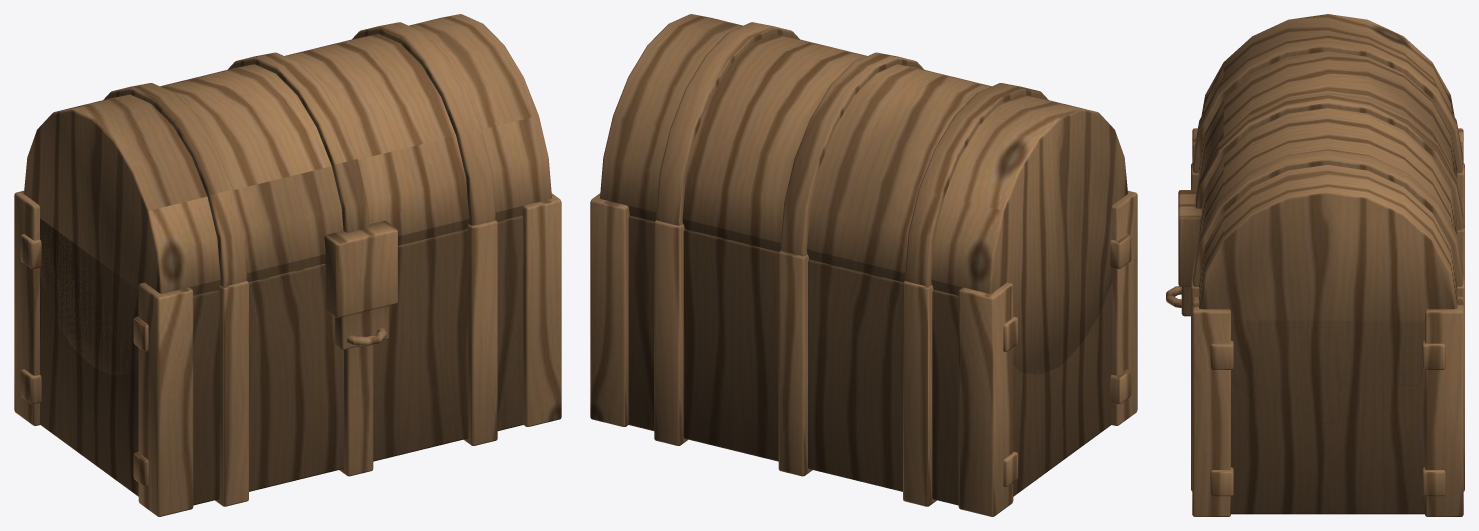
Rendered from p_chest.glb.
The picture shows the model from 3 angles, left to right: view 1: azimuth 30°, elevation 25°; view 2: azimuth 150°, elevation 25°; view 3: azimuth 270°, elevation 25°; orthographic projection. The views are drawn at different scales.
Visible parts, largest first — view 1: chest; view 2: chest; view 3: chest.
Part boxes in pixels (box(x1,y1,x2,y2)): chest: box(14, 14, 561, 516); chest: box(590, 14, 1137, 516); chest: box(1166, 14, 1464, 516).
Bounding box in the file's own units: 0.86 × 0.712 × 0.5785.
1 material, 1 textured.
